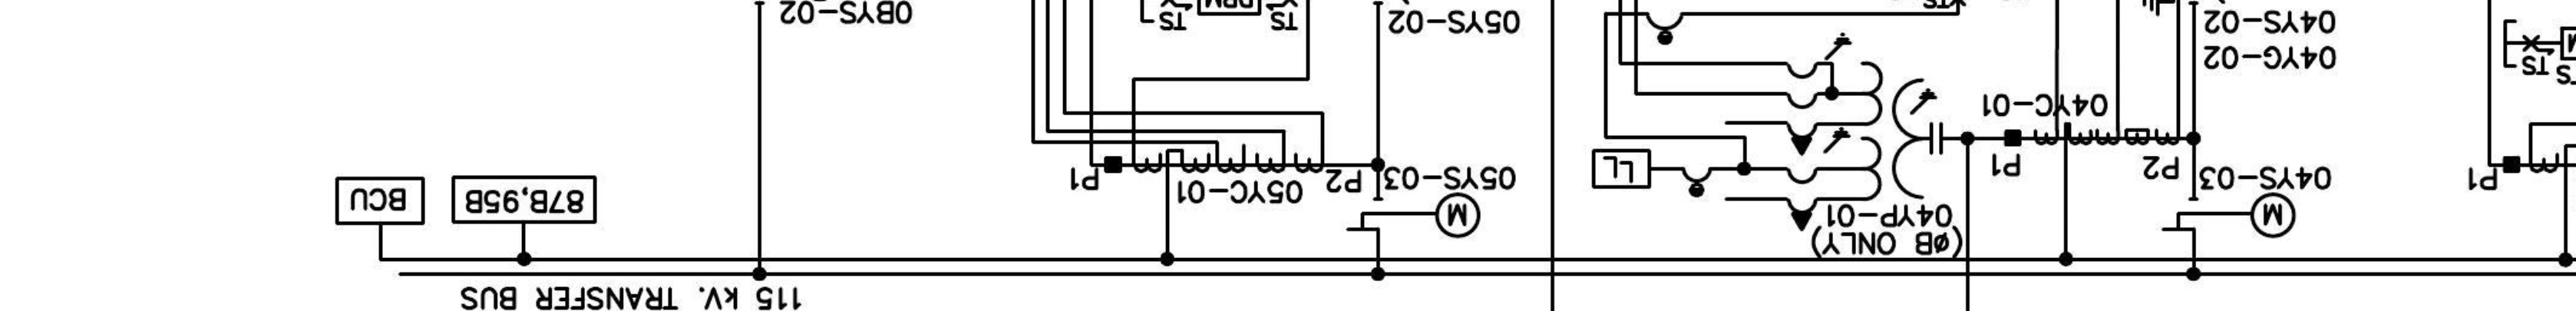115_1way_ds_w_motor: (2160, 191, 2298, 240), (1345, 191, 1482, 240)
115_cvt_1p: (1784, 33, 1943, 232)
BCU: (333, 176, 425, 225)
LL: (1590, 148, 1653, 189)
